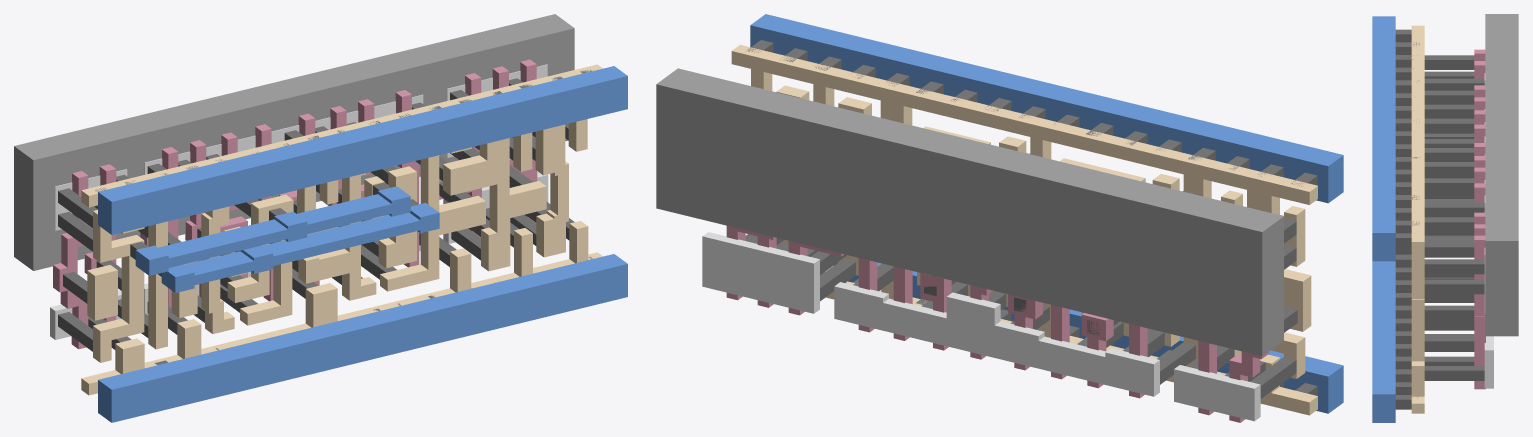
File: sky130_fd_sc_hd__dfxtp_2.gds.gltf
3 renders of one model, left to right at view 1: azimuth 30°, elevation 25°; view 2: azimuth 150°, elevation 25°; view 3: azimuth 270°, elevation 25°, orthographic. The views are drawn at different scales.
Parts seen in each view (by area): view 1: sky130_fd_sc_hd__dfxtp_2_met1, sky130_fd_sc_hd__dfxtp_2_li1, sky130_fd_sc_hd__dfxtp_2_nwell, sky130_fd_sc_hd__dfxtp_2_licon, sky130_fd_sc_hd__dfxtp_2_poly, sky130_fd_sc_hd__dfxtp_2_diff, sky130_fd_sc_hd__dfxtp_2_mcon; view 2: sky130_fd_sc_hd__dfxtp_2_nwell, sky130_fd_sc_hd__dfxtp_2_li1, sky130_fd_sc_hd__dfxtp_2_diff, sky130_fd_sc_hd__dfxtp_2_met1, sky130_fd_sc_hd__dfxtp_2_poly, sky130_fd_sc_hd__dfxtp_2_licon, sky130_fd_sc_hd__dfxtp_2_mcon; view 3: sky130_fd_sc_hd__dfxtp_2_licon, sky130_fd_sc_hd__dfxtp_2_nwell, sky130_fd_sc_hd__dfxtp_2_met1, sky130_fd_sc_hd__dfxtp_2_mcon, sky130_fd_sc_hd__dfxtp_2_li1, sky130_fd_sc_hd__dfxtp_2_poly, sky130_fd_sc_hd__dfxtp_2_diff.
Part boxes in pixels (box(x1,y1,x2,y2)): sky130_fd_sc_hd__dfxtp_2_met1: box(98, 66, 627, 422); sky130_fd_sc_hd__dfxtp_2_li1: box(81, 64, 602, 395); sky130_fd_sc_hd__dfxtp_2_nwell: box(14, 14, 574, 270); sky130_fd_sc_hd__dfxtp_2_licon: box(58, 78, 574, 351); sky130_fd_sc_hd__dfxtp_2_poly: box(53, 59, 537, 349); sky130_fd_sc_hd__dfxtp_2_diff: box(50, 64, 548, 339); sky130_fd_sc_hd__dfxtp_2_mcon: box(95, 70, 592, 365); sky130_fd_sc_hd__dfxtp_2_nwell: box(656, 68, 1283, 356); sky130_fd_sc_hd__dfxtp_2_li1: box(731, 44, 1317, 415); sky130_fd_sc_hd__dfxtp_2_diff: box(702, 232, 1260, 421); sky130_fd_sc_hd__dfxtp_2_met1: box(750, 14, 1343, 413); sky130_fd_sc_hd__dfxtp_2_poly: box(726, 226, 1269, 422); sky130_fd_sc_hd__dfxtp_2_licon: box(745, 108, 1297, 398); sky130_fd_sc_hd__dfxtp_2_mcon: box(746, 40, 1317, 395); sky130_fd_sc_hd__dfxtp_2_licon: box(1424, 55, 1484, 380); sky130_fd_sc_hd__dfxtp_2_nwell: box(1485, 14, 1518, 336); sky130_fd_sc_hd__dfxtp_2_met1: box(1372, 16, 1395, 422); sky130_fd_sc_hd__dfxtp_2_mcon: box(1395, 29, 1419, 409); sky130_fd_sc_hd__dfxtp_2_li1: box(1411, 25, 1424, 413); sky130_fd_sc_hd__dfxtp_2_poly: box(1474, 49, 1485, 389); sky130_fd_sc_hd__dfxtp_2_diff: box(1484, 73, 1493, 388).
Size of the model in its own units: 8.2 by 3.2 by 2.24.
